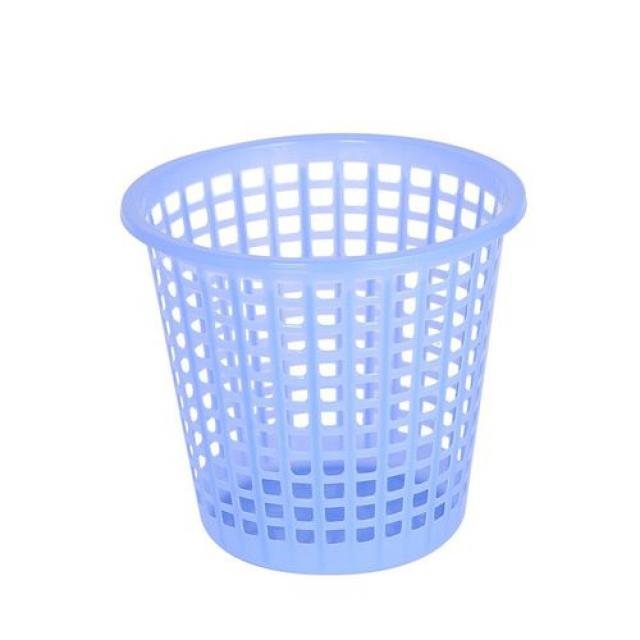Dustbin: (117, 127, 530, 578)
